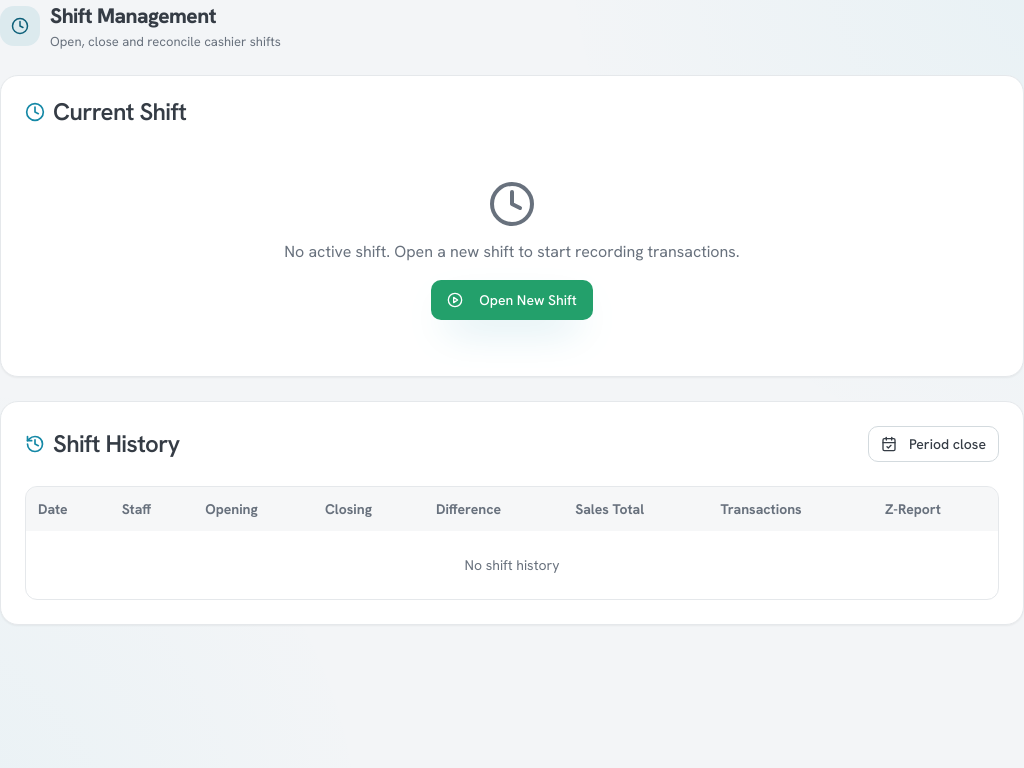
Test: ShiftManagement period close — inventory reconciliation (issue #210) › confirms when an approved stock count landed in the period
Click the button "Period close". click: (933, 444)
box: [868, 426, 999, 462]
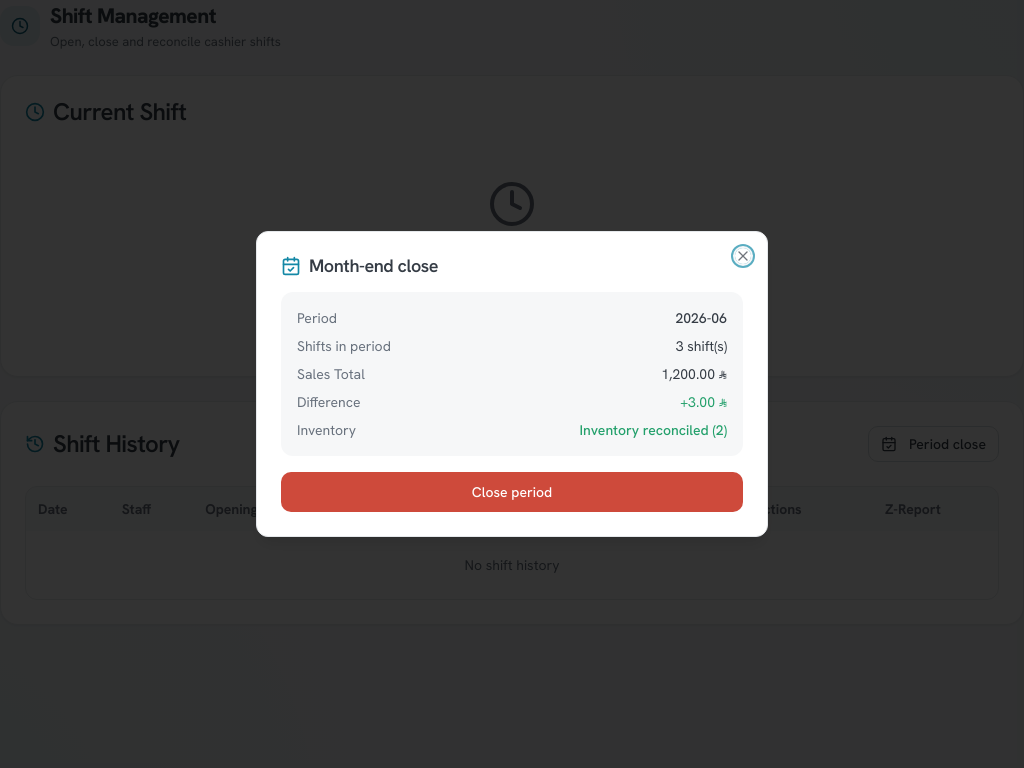
Check: the text "Inventory reconciled (2)" is shown, box [580, 420, 727, 440]
